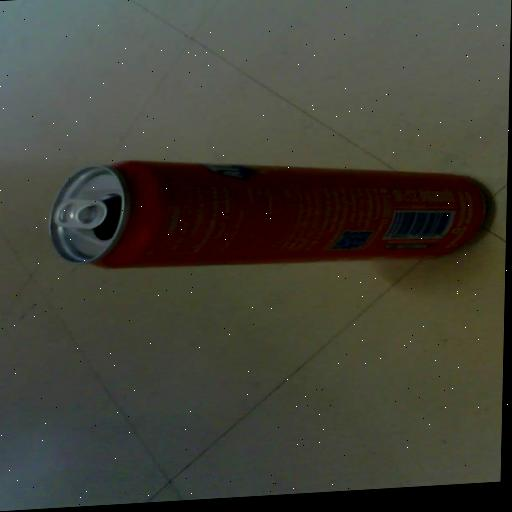canned: (31, 135, 508, 282)
